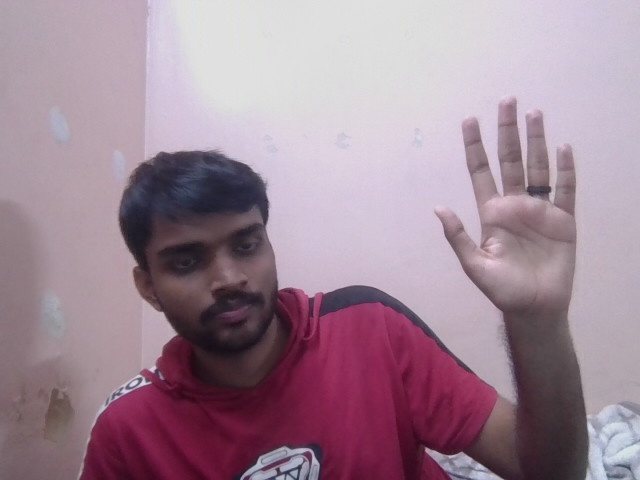Hello: (433, 93, 606, 312)
